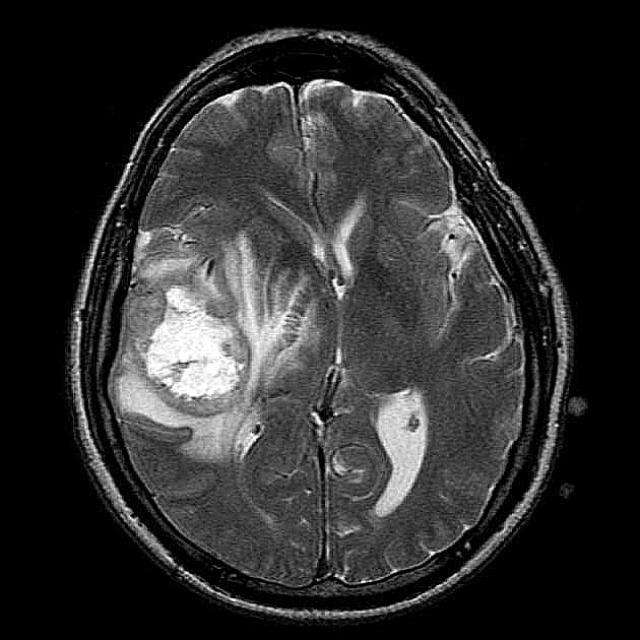Tumor-Cell: (125, 259, 270, 439)
